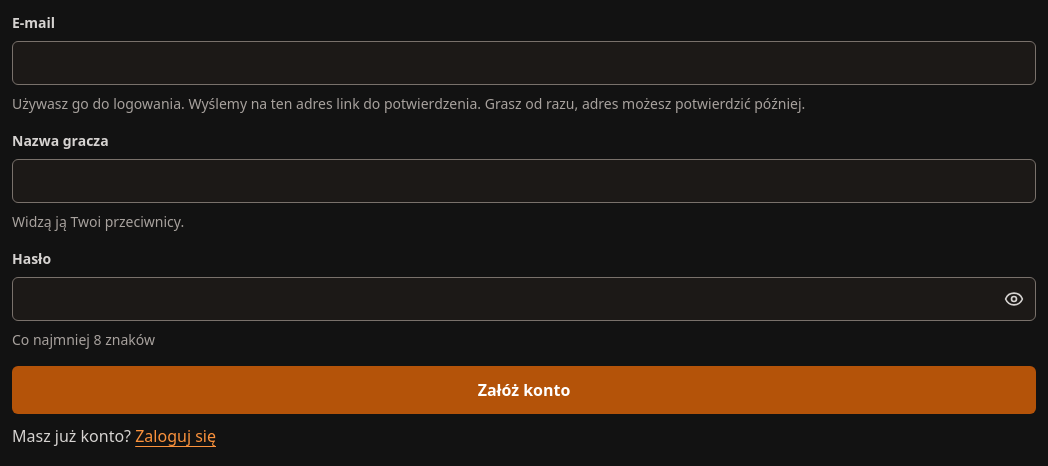
Scenario: RegisterForm › registers and replaces the location with the safe next path, staying pending
This screenshot has width=1048, height=466.
In the field labelled "E-mail": (524, 63) top-left (12, 41), bottom-right (1036, 85), type "ala@example.com"
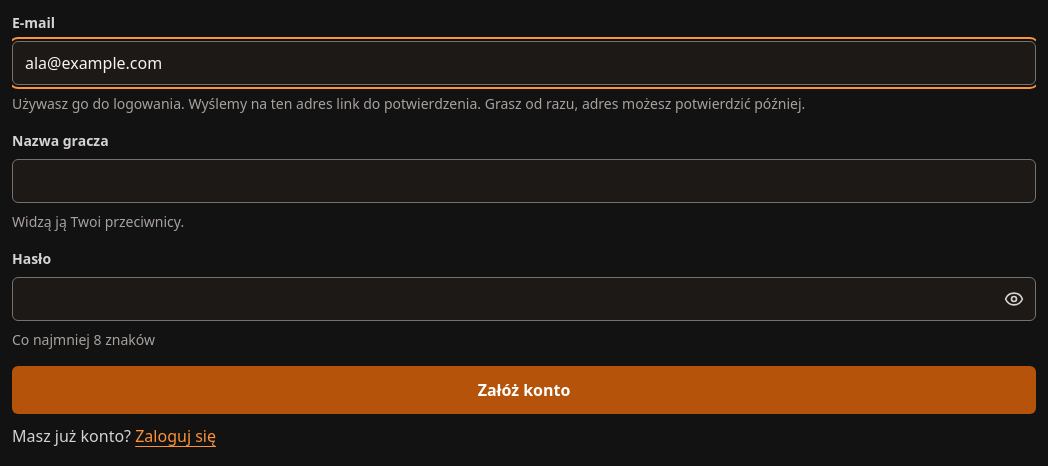
In the field labelled "Nazwa gracza": (524, 181) top-left (12, 159), bottom-right (1036, 203), type "Ala_7"
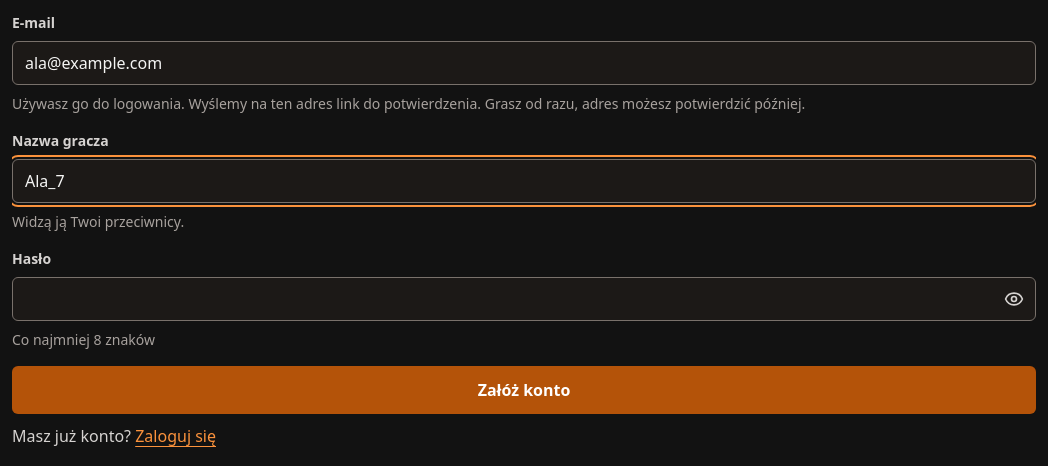
In the password field labelled "Hasło": (524, 299) top-left (12, 277), bottom-right (1036, 321), type "secret123"
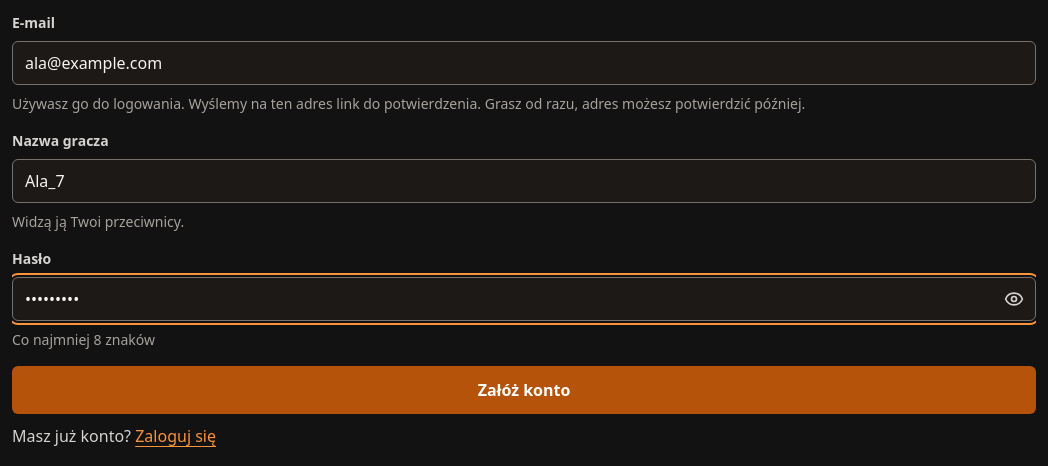
Click the button "Załóż konto": (524, 390) top-left (12, 366), bottom-right (1036, 414)
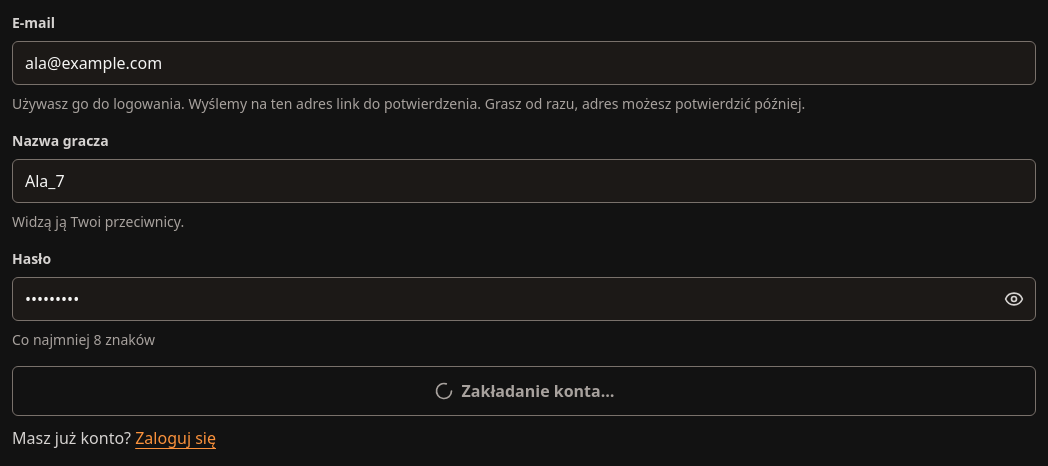
Expected: the button "Zakładanie konta…" is disabled, top-left (12, 366), bottom-right (1036, 416)
